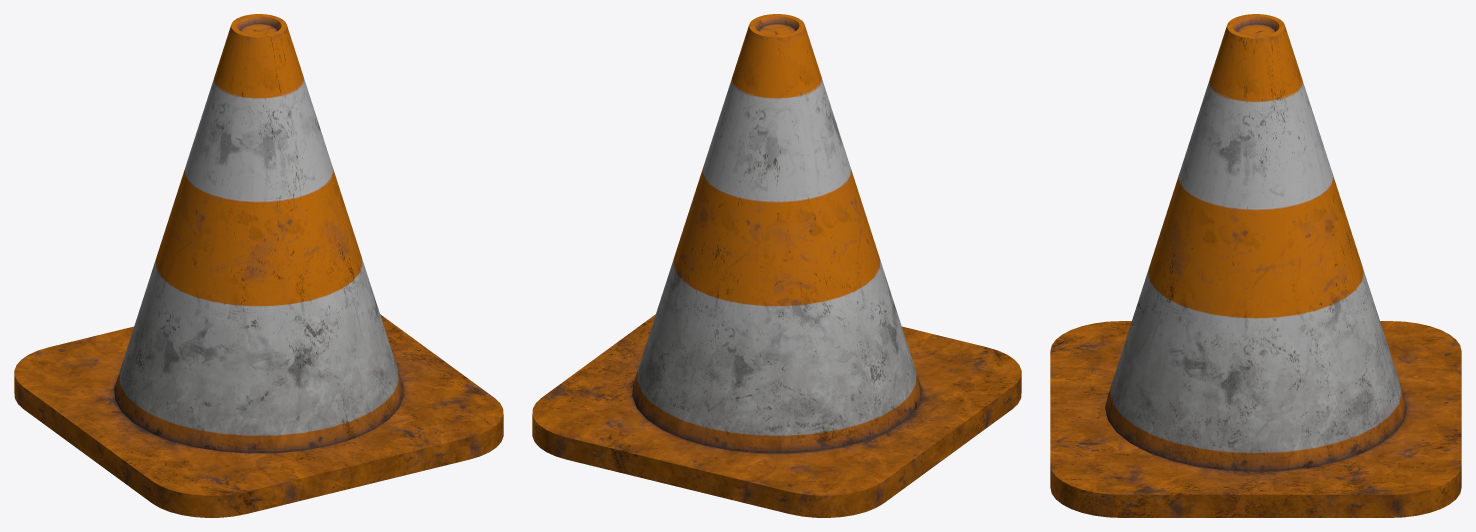
The picture shows the model from 3 angles, left to right: view 1: azimuth 30°, elevation 25°; view 2: azimuth 150°, elevation 25°; view 3: azimuth 270°, elevation 25°; orthographic projection. The views are drawn at different scales.
Visible parts, largest first — view 1: CONO; view 2: CONO; view 3: CONO.
Boxes of the visible parts, box(x1,y1,x2,y2) form: CONO: box(14, 14, 503, 517); CONO: box(532, 14, 1021, 517); CONO: box(1050, 14, 1461, 517).
Size of the model in its own units: 1.72 by 1.87 by 1.72.
1 material, 1 textured.
